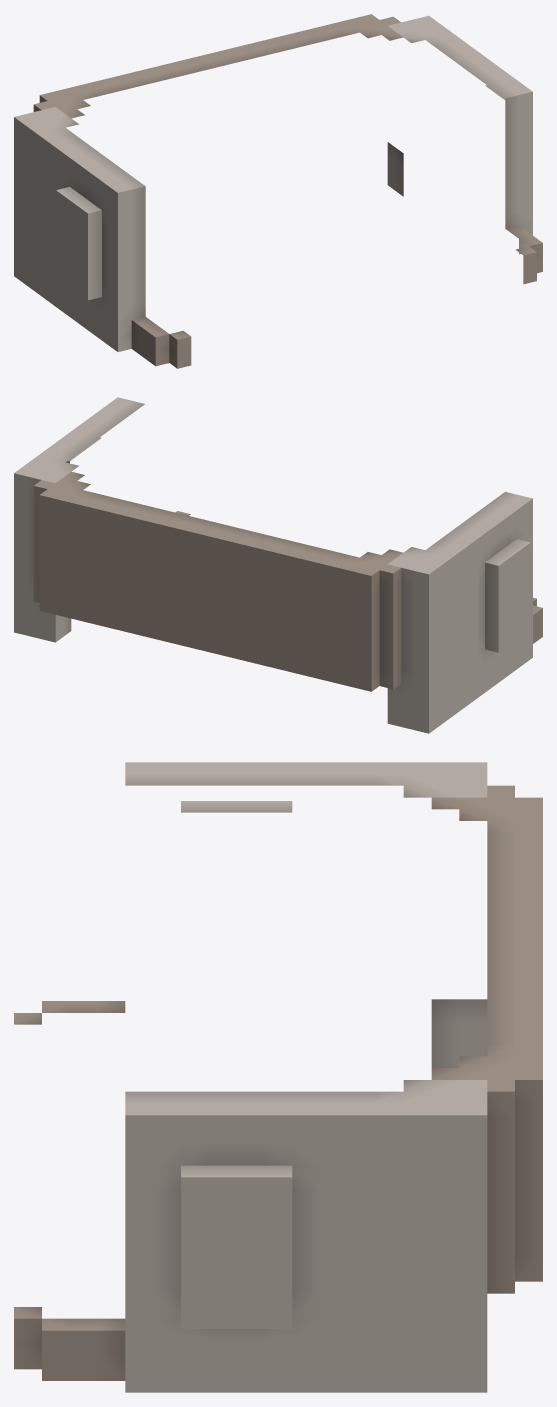
Rendered from hair_f_short_practical.glb.
3 renders of one model, top to bottom at view 1: azimuth 30°, elevation 25°; view 2: azimuth 150°, elevation 25°; view 3: azimuth 270°, elevation 25°, orthographic. The views are drawn at different scales.
Visible parts, largest first — view 1: VoxelVisual; view 2: VoxelVisual; view 3: VoxelVisual.
Part boxes in pixels (x1,y1,x2,y2): VoxelVisual: (14,14,542,368); VoxelVisual: (14,397,542,733); VoxelVisual: (14,762,542,1392).
Size of what is drawn, in the model's own units: 2 by 0.6875 by 1.19.
